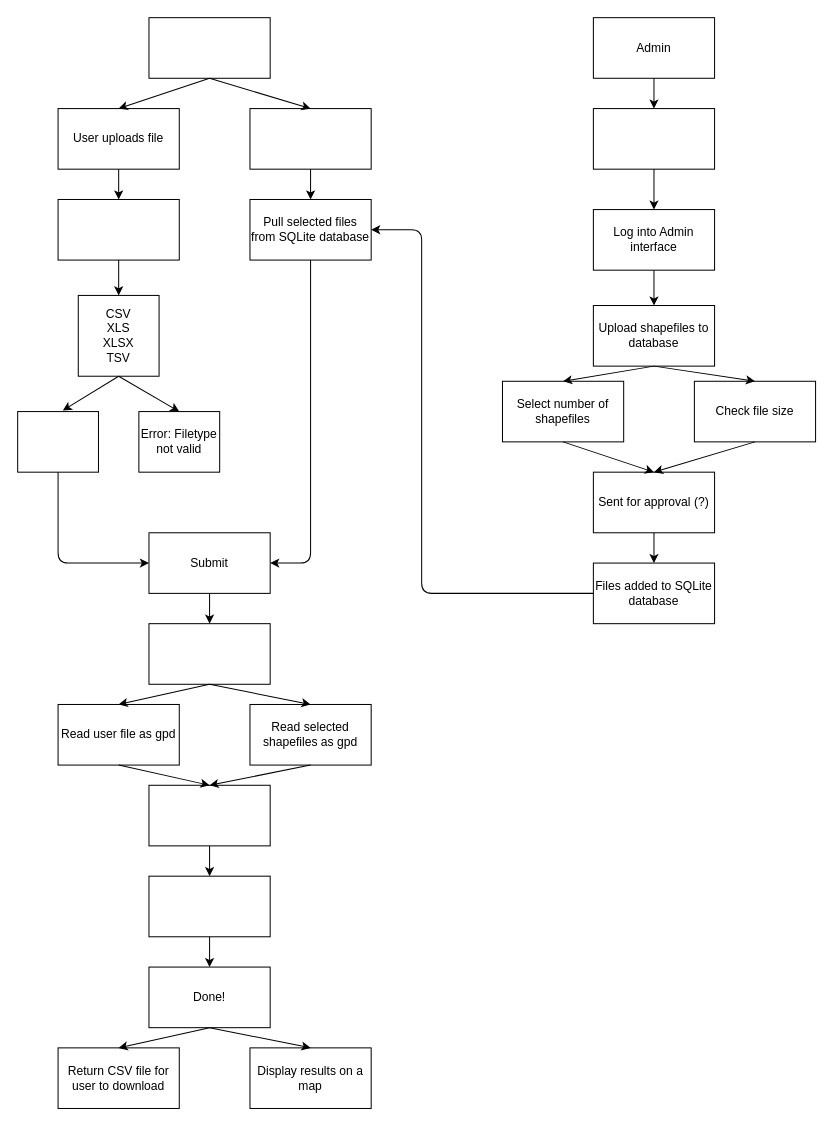
The diagram is 833 pixels wide and 1126 high, and some of its shapes have lost their labels. Each missing label, with the centre of its shape:
Check for valid type: point 118,229
Checkmark for valid file: point 57,441
Homepage: point 209,47
Multiple successive spatial joins: point 209,815
Processing: point 209,653
Resulting gpd: point 209,906
user obtains data they want to add to SQLite database: point 653,138
User selects geometries to join with data: point 310,138
